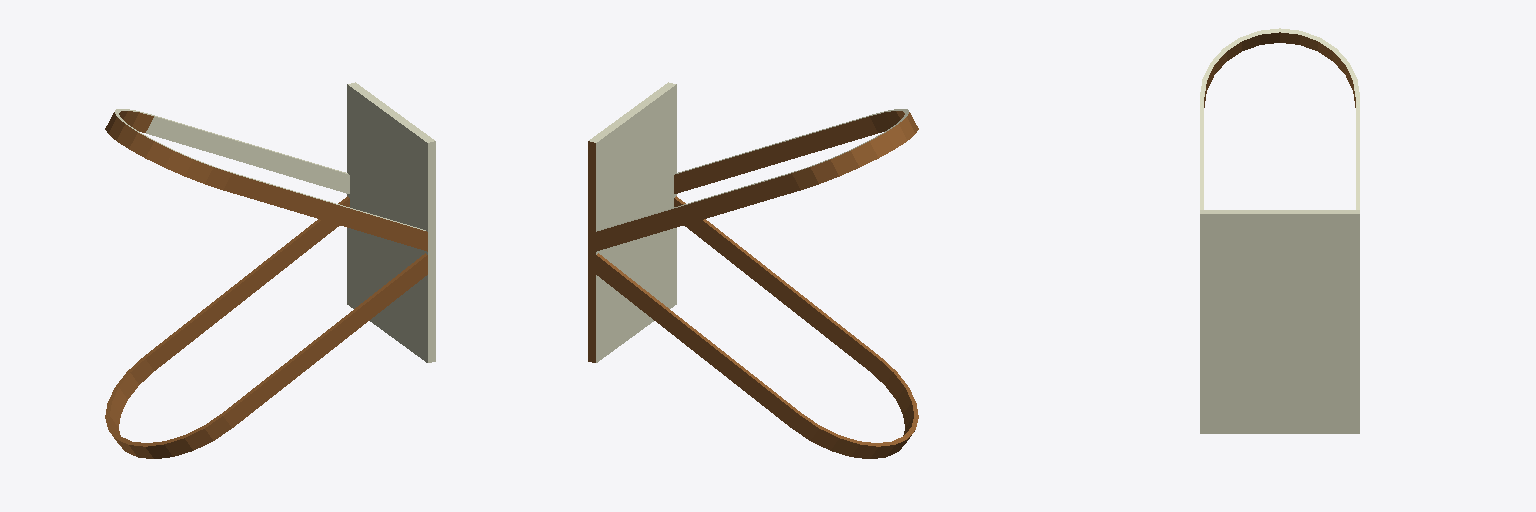
Rendered from wall5.obj.
3 renders of one model, left to right at view 1: azimuth 30°, elevation 25°; view 2: azimuth 150°, elevation 25°; view 3: azimuth 270°, elevation 25°, orthographic.
Visible parts, largest first — view 1: Mesh1 Group1 Model; view 2: Mesh1 Group1 Model; view 3: Mesh1 Group1 Model.
Boxes of the visible parts, <box> form: Mesh1 Group1 Model: <box>105,82,435,458</box>; Mesh1 Group1 Model: <box>588,82,918,458</box>; Mesh1 Group1 Model: <box>1200,28,1359,433</box>.
Bounding box in the file's own units: 17.26 × 19.34 × 8.59.